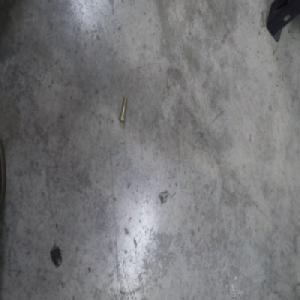Bolt: (118, 95, 127, 123)
